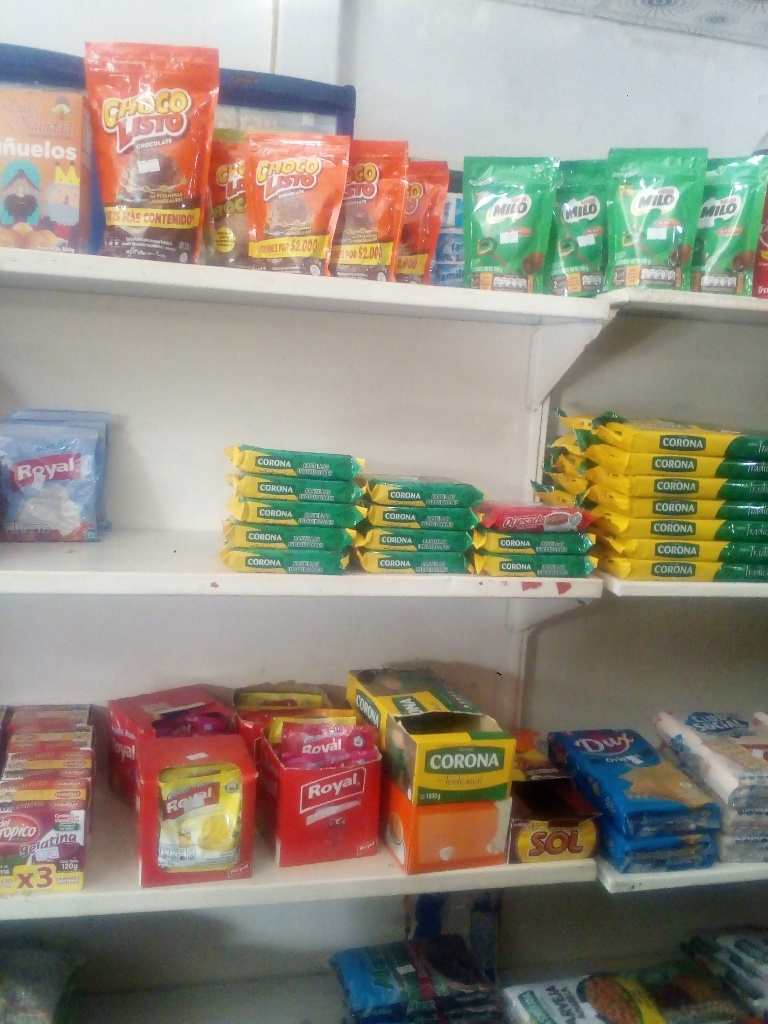COL0170102DYP10000: (207, 120, 251, 270)
COL0170203DYP10000: (460, 154, 557, 296)
